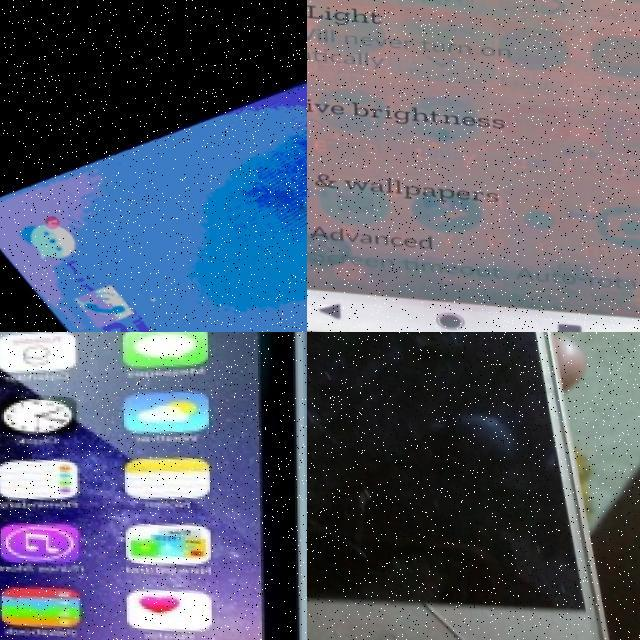screen crack: (307, 332, 520, 640)
